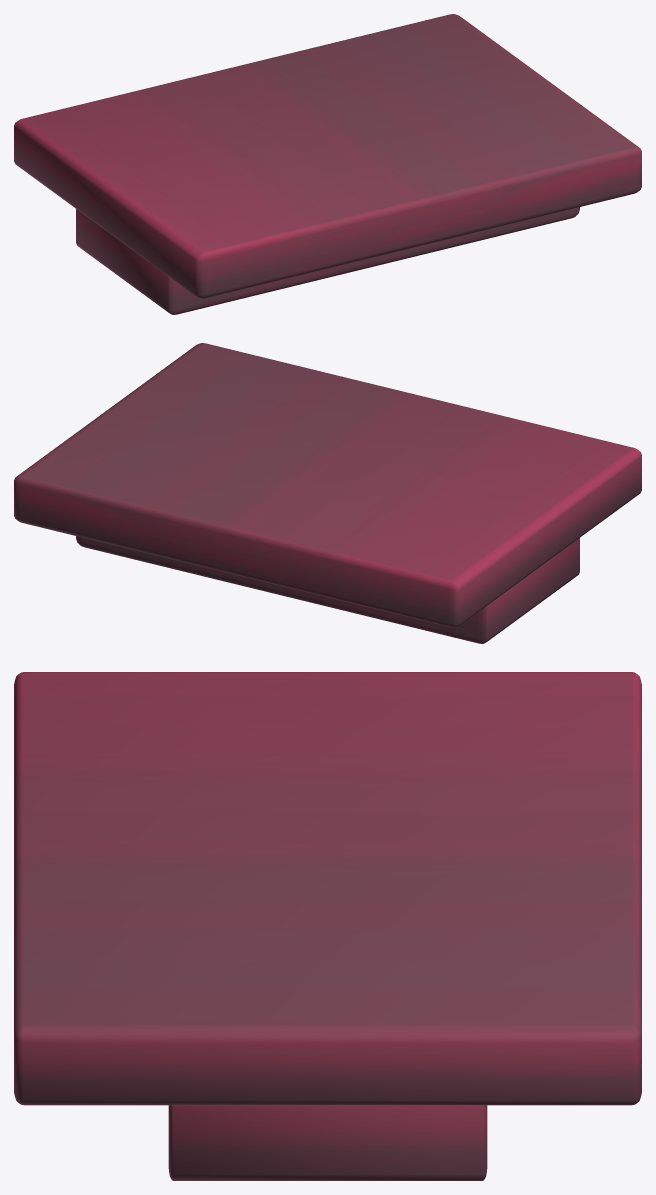
Rendered from clicClacOuvert.obj.
3 renders of one model, top to bottom at view 1: azimuth 30°, elevation 25°; view 2: azimuth 150°, elevation 25°; view 3: azimuth 270°, elevation 25°, orthographic. The views are drawn at different scales.
Visible parts, largest first — view 1: mattress_1_6, mattress_1; view 2: mattress_1_6, mattress_1; view 3: mattress_1_6, mattress_1.
Part boxes in pixels (left/top/right/bottom): mattress_1_6: left=14, top=14, right=641, bottom=298; mattress_1: left=76, top=207, right=579, bottom=314; mattress_1_6: left=14, top=343, right=641, bottom=627; mattress_1: left=76, top=536, right=579, bottom=643; mattress_1_6: left=14, top=672, right=641, bottom=1105; mattress_1: left=168, top=1105, right=487, bottom=1180.
Bounding box in the file's own units: 182 × 39.87 × 132.
2 materials, 1 textured.
